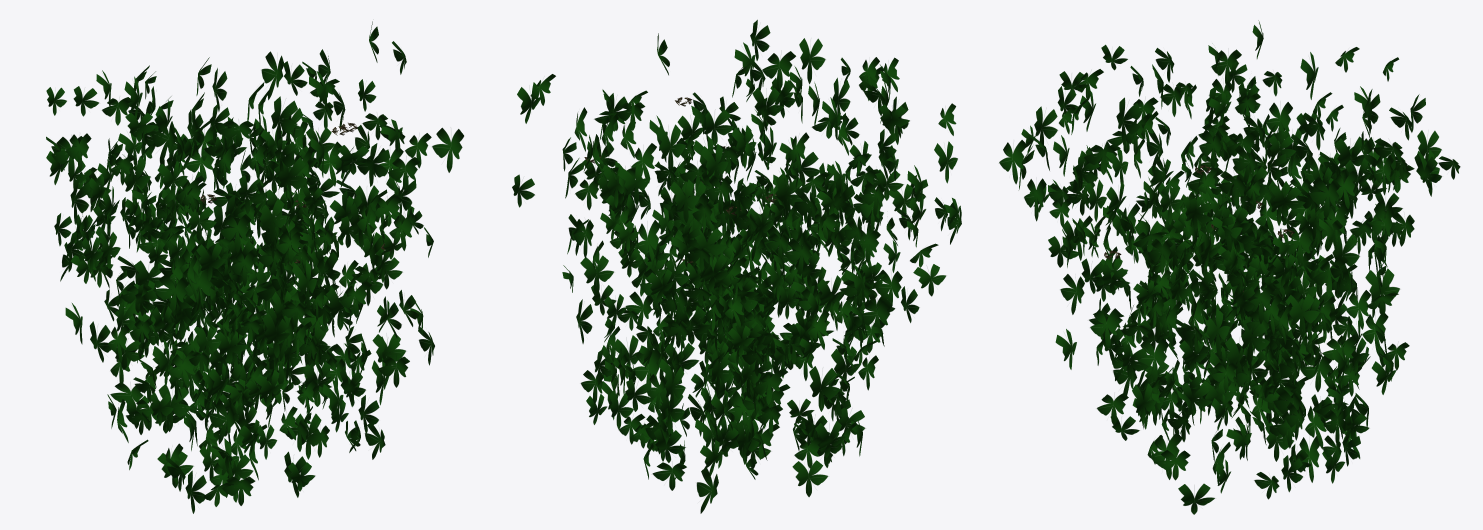
The model's file is Shrub_FloweringRaspberry.glb.
3 renders of one model, left to right at view 1: azimuth 30°, elevation 25°; view 2: azimuth 150°, elevation 25°; view 3: azimuth 270°, elevation 25°, orthographic.
Parts seen in each view (by area): view 1: Shrub_FloweringRaspberry; view 2: Shrub_FloweringRaspberry; view 3: Shrub_FloweringRaspberry.
Boxes of the visible parts, bbox=[...] form: Shrub_FloweringRaspberry: bbox=[46, 21, 463, 513]; Shrub_FloweringRaspberry: bbox=[512, 19, 961, 513]; Shrub_FloweringRaspberry: bbox=[999, 20, 1460, 514].
Size of the model in its own units: 1.69 by 1.73 by 1.87.
Materials: 1 (1 with a texture image).
